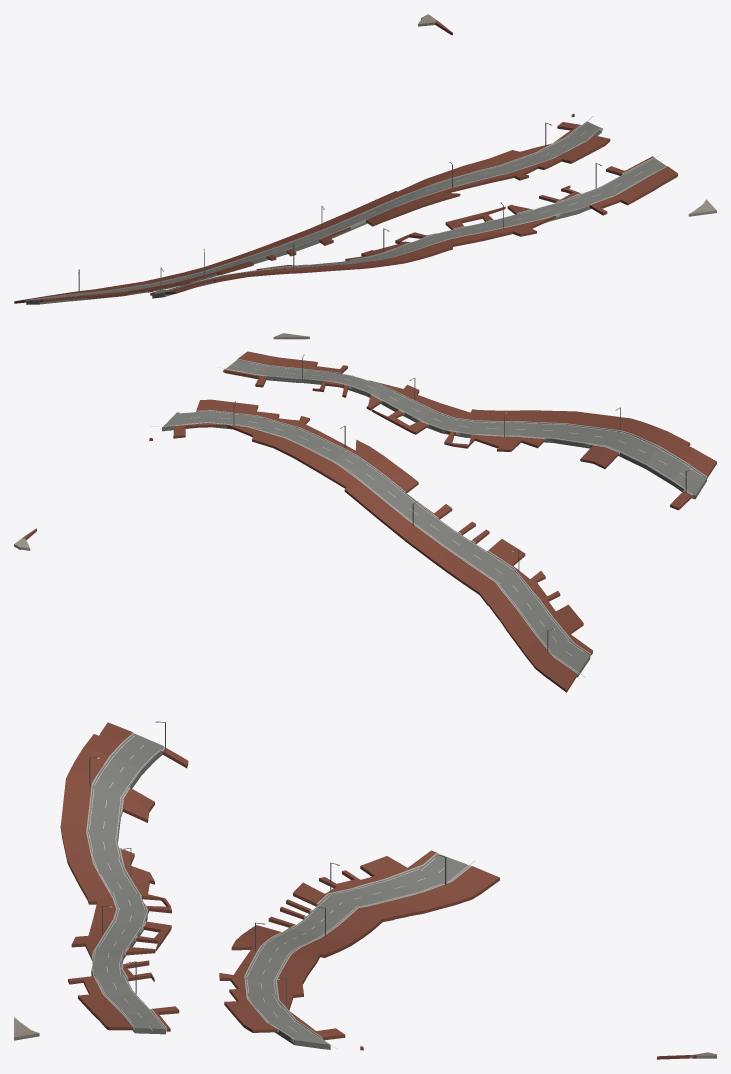
3 views of the same model, one above another, from view 1: azimuth 30°, elevation 25°; view 2: azimuth 150°, elevation 25°; view 3: azimuth 270°, elevation 25° (orthographic). The views are drawn at different scales.
Bounding box in the file's own units: 153 × 43.27 × 146.
